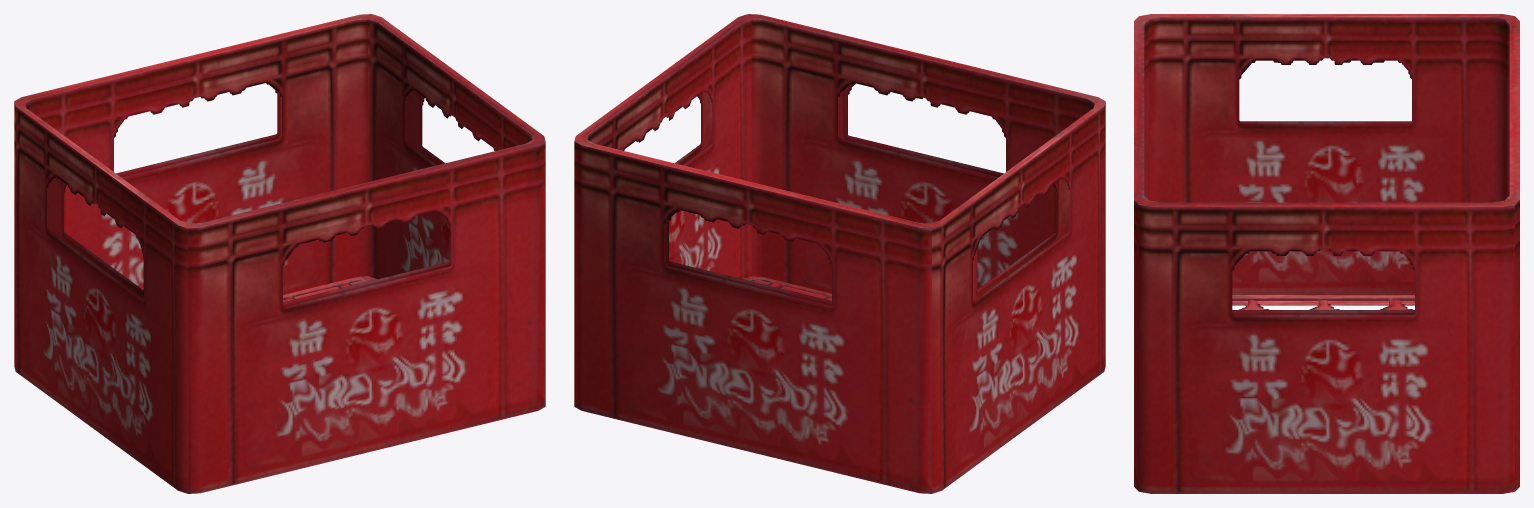
The model's file is bottle_case-5.FBX.
3 renders of one model, left to right at view 1: azimuth 30°, elevation 25°; view 2: azimuth 150°, elevation 25°; view 3: azimuth 270°, elevation 25°, orthographic. The views are drawn at different scales.
Parts seen in each view (by area): view 1: Object04; view 2: Object04; view 3: Object04.
Boxes of the visible parts, x1,y1,x2,y2 form: Object04: (14,14,545,493); Object04: (574,14,1105,493); Object04: (1134,14,1519,493).
Bounding box in the file's own units: 17.72 × 12.29 × 14.98.
